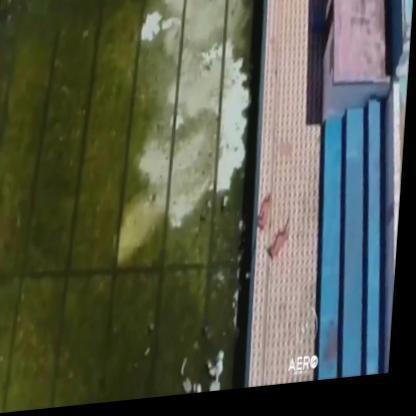agua: (0, 43, 126, 327)
